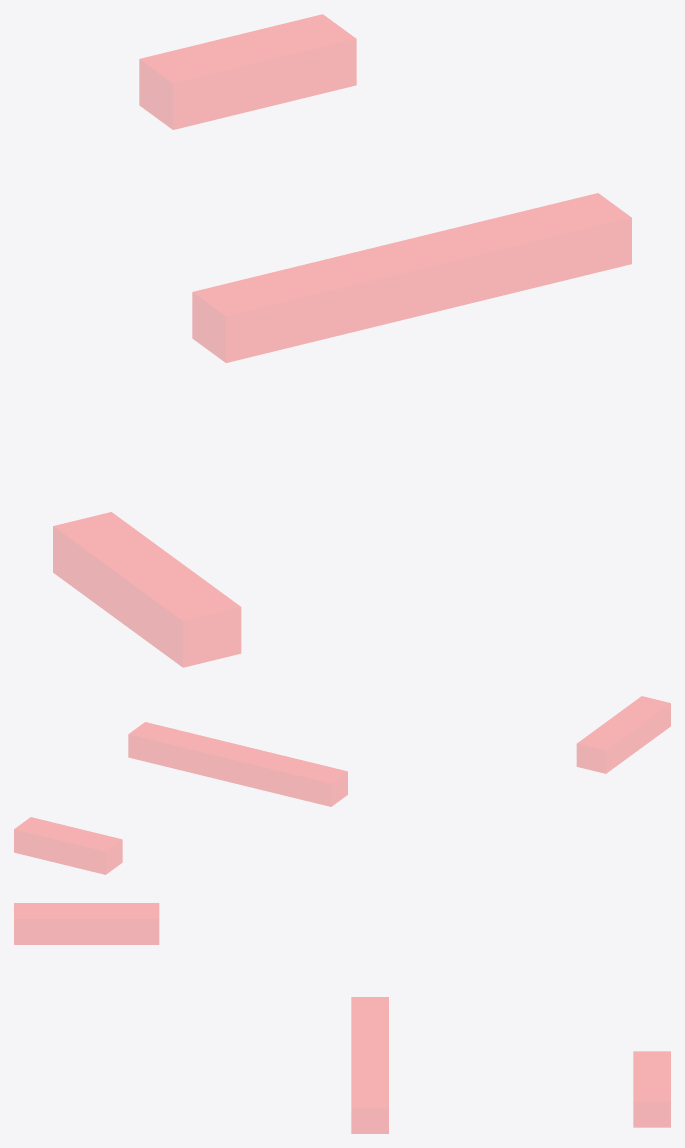
The model's file is s05a_td1-obstacles.glb.
The picture shows the model from 3 angles, top to bottom: view 1: azimuth 30°, elevation 25°; view 2: azimuth 150°, elevation 25°; view 3: azimuth 270°, elevation 25°; orthographic projection. The views are drawn at different scales.
Parts seen in each view (by area): view 1: boulder-colonly (×3); view 2: boulder-colonly (×3); view 3: boulder-colonly (×3).
Part boxes in pixels (left/top/right/bottom): boulder-colonly (×3): left=53, top=14, right=631, bottom=667; boulder-colonly (×3): left=14, top=696, right=670, bottom=874; boulder-colonly (×3): left=14, top=903, right=670, bottom=1133.
Bounding box in the file's own units: 26.99 × 1.6 × 36.58.
